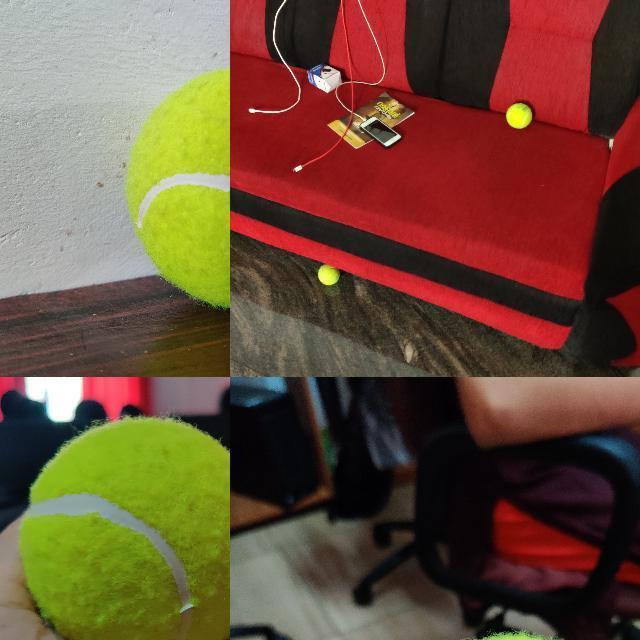tennis-ball: (19, 417, 229, 639), (124, 63, 229, 311), (506, 102, 532, 128), (317, 269, 340, 285)
